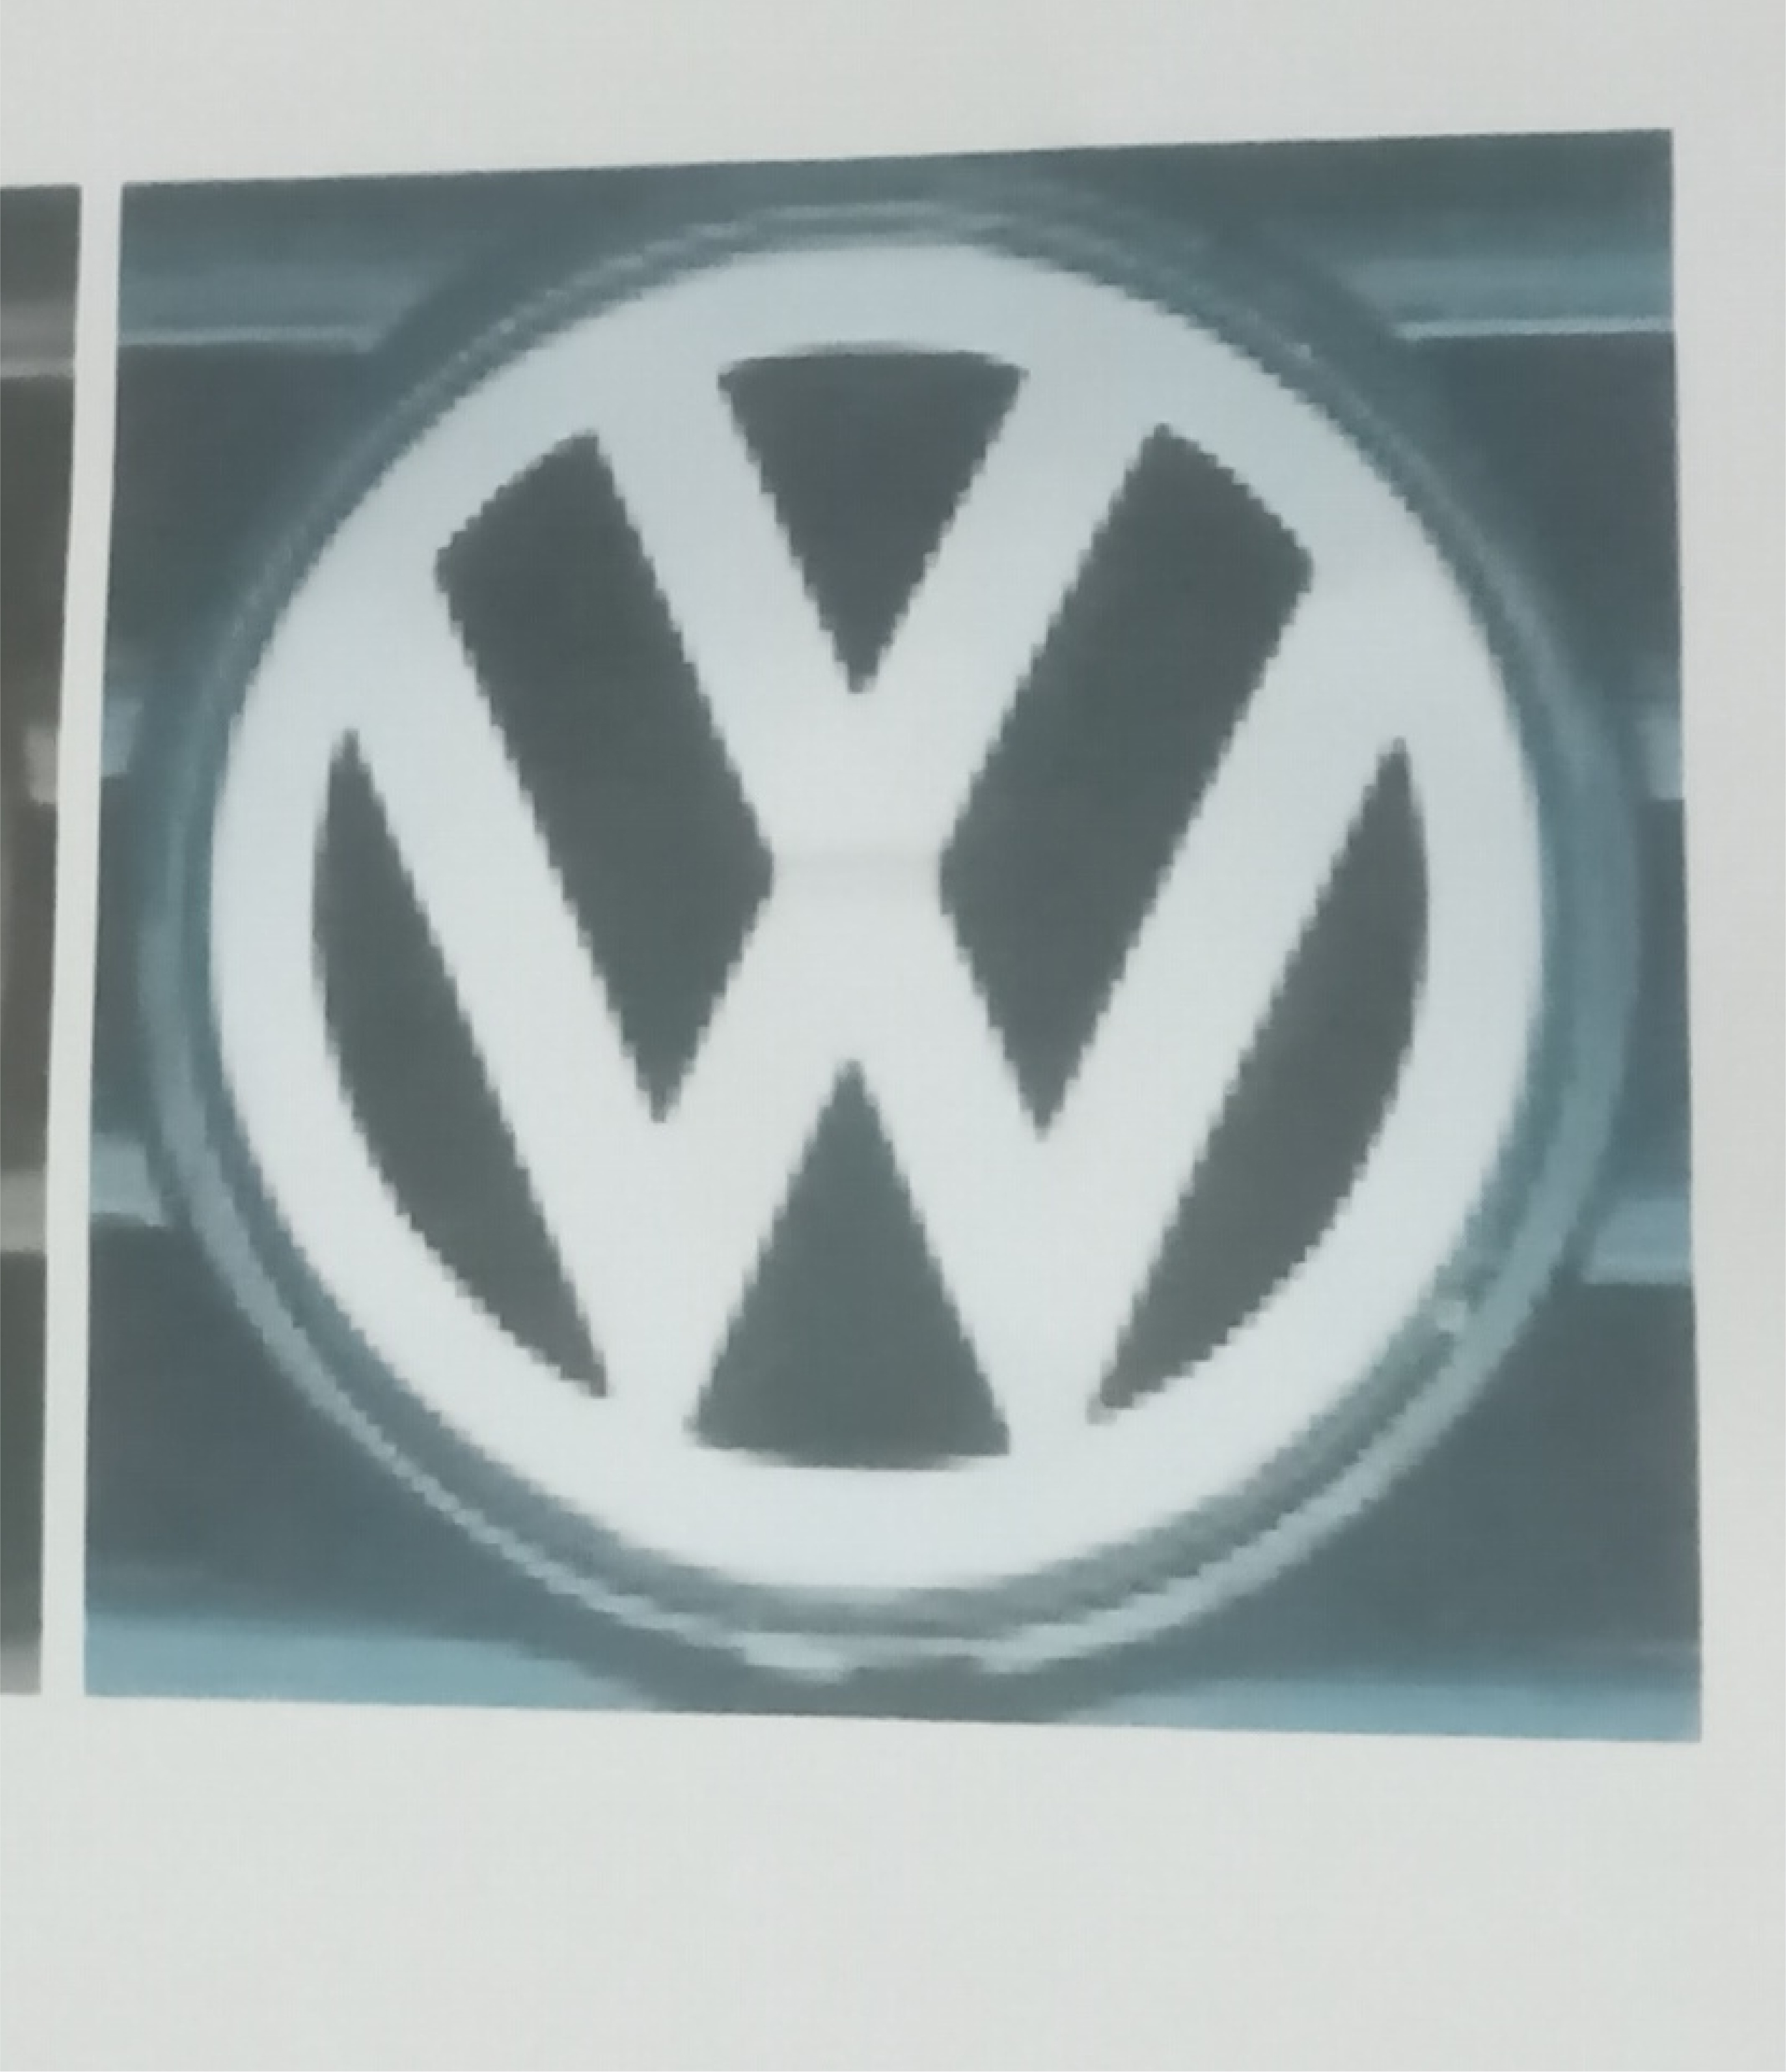Volkswagen: (134, 183, 1605, 1693)
